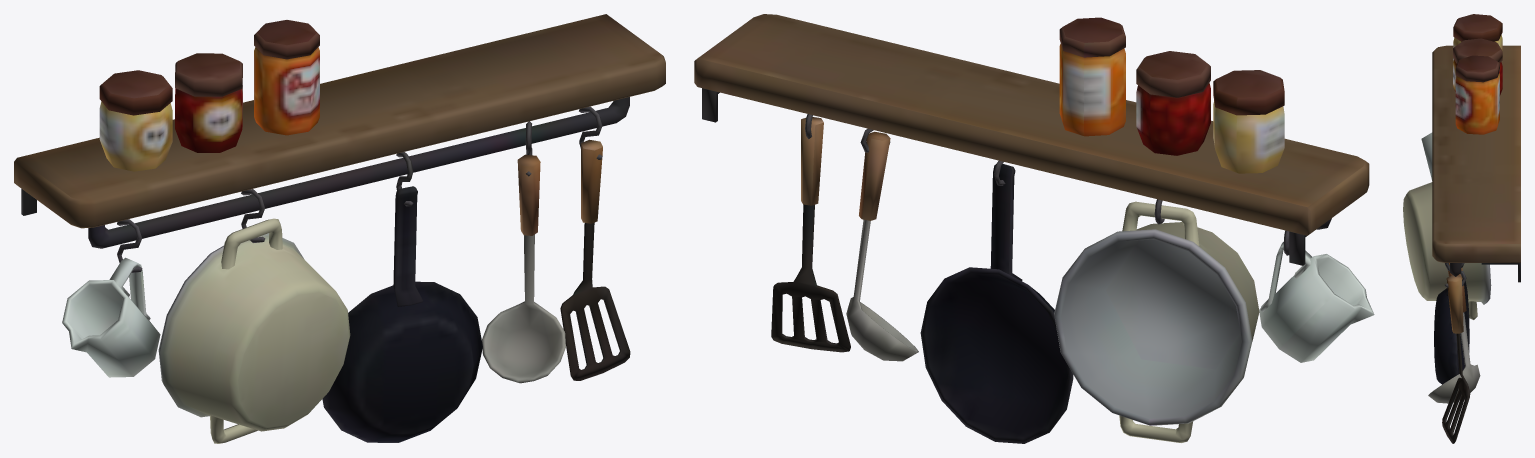
The picture shows the model from 3 angles, left to right: view 1: azimuth 30°, elevation 25°; view 2: azimuth 150°, elevation 25°; view 3: azimuth 270°, elevation 25°; orthographic projection. The views are drawn at different scales.
Size of the model in its own units: 13.85 by 9.5 by 3.43.
1 material, 1 textured.
